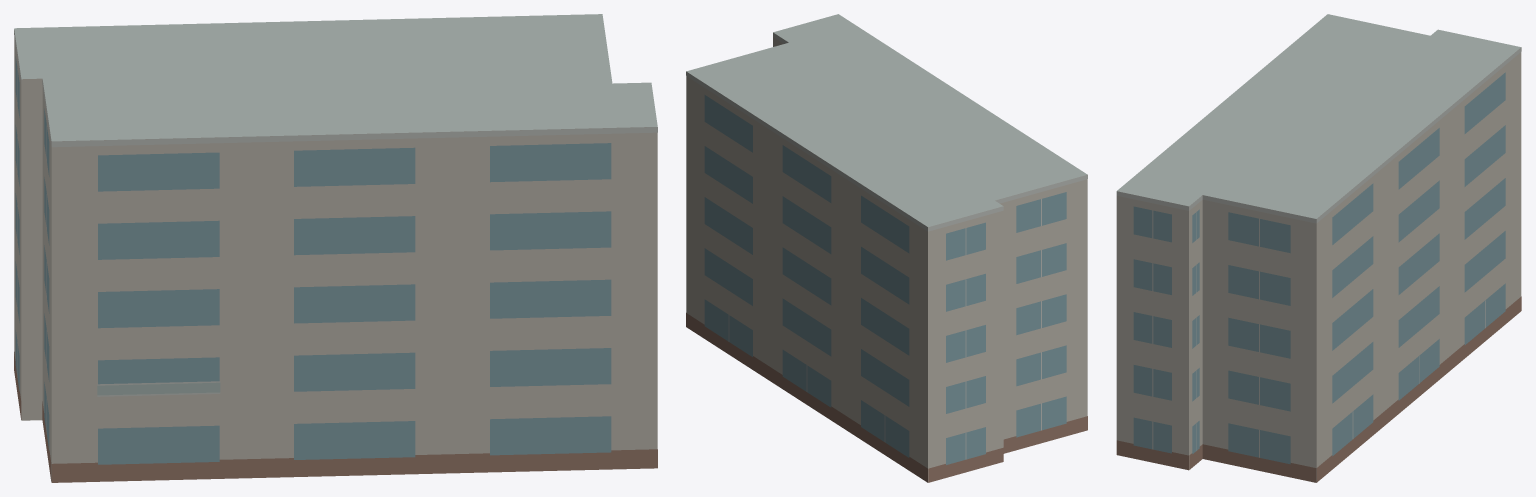
Rendered from survey-upis-32672553.glb.
3 views of the same model, side by side, from view 1: azimuth 30°, elevation 25°; view 2: azimuth 150°, elevation 25°; view 3: azimuth 270°, elevation 25° (orthographic). The views are drawn at different scales.
Parts seen in each view (by area): view 1: survey-upis-32672553.tmp; view 2: survey-upis-32672553.tmp; view 3: survey-upis-32672553.tmp.
Part boxes in pixels (bbox=[...]): survey-upis-32672553.tmp: bbox=[14, 14, 657, 482]; survey-upis-32672553.tmp: bbox=[686, 14, 1087, 482]; survey-upis-32672553.tmp: bbox=[1116, 14, 1521, 482].
Bounding box in the file's own units: 23.51 × 14.1 × 19.61.
